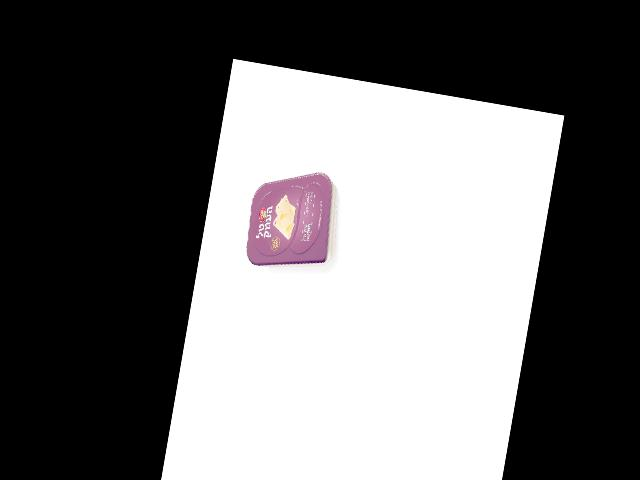cheese: (240, 161, 346, 278)
